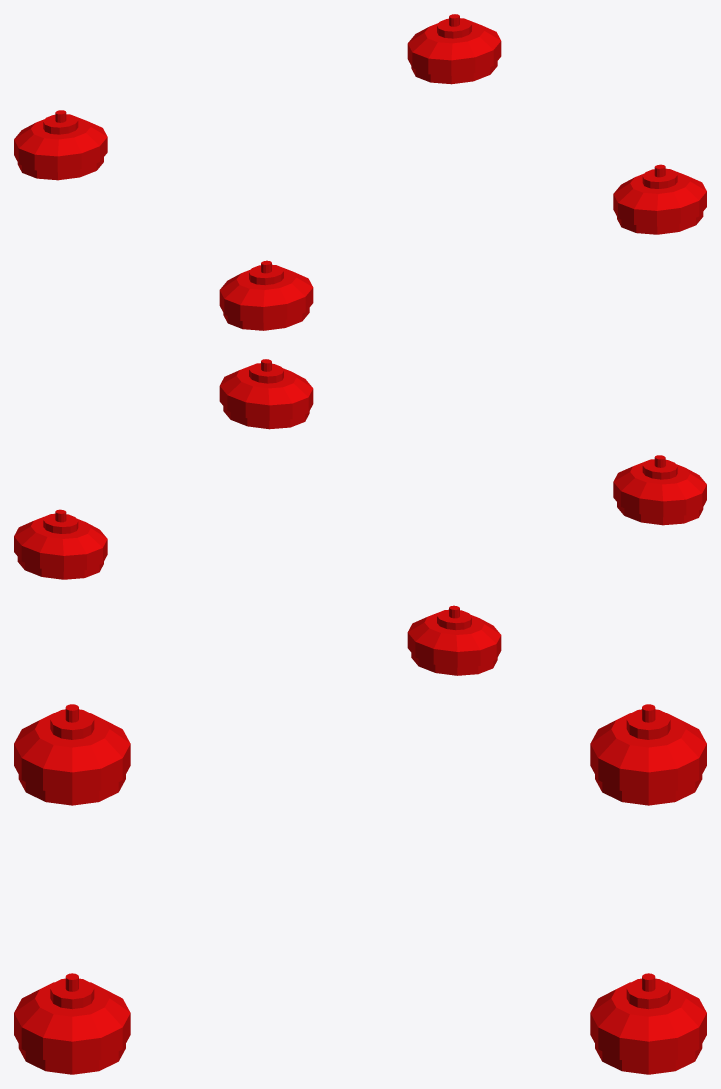
The model's file is motorcrveni.fbx.
3 views of the same model, one above another, from view 1: azimuth 30°, elevation 25°; view 2: azimuth 150°, elevation 25°; view 3: azimuth 270°, elevation 25° (orthographic). The views are drawn at different scales.
Visible parts, largest first — view 1: Drone.001; view 2: Drone.001; view 3: Drone.001.
Boxes of the visible parts, <box> form: Drone.001: <box>14,14,706,330</box>; Drone.001: <box>14,359,706,675</box>; Drone.001: <box>14,704,706,1074</box>.
Size of the model in its own units: 572 by 58.51 by 513.
